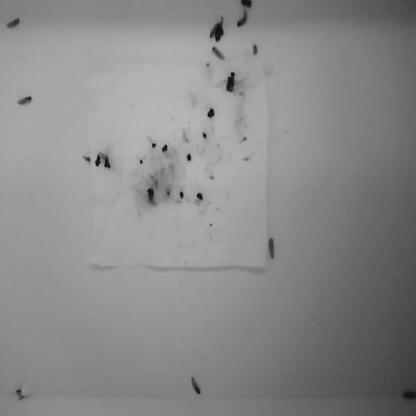PtecticusTenebrifer: (209, 14, 224, 38), (236, 9, 250, 29), (5, 17, 22, 32), (190, 375, 202, 396), (212, 45, 226, 61), (16, 94, 32, 107), (269, 235, 276, 260)
